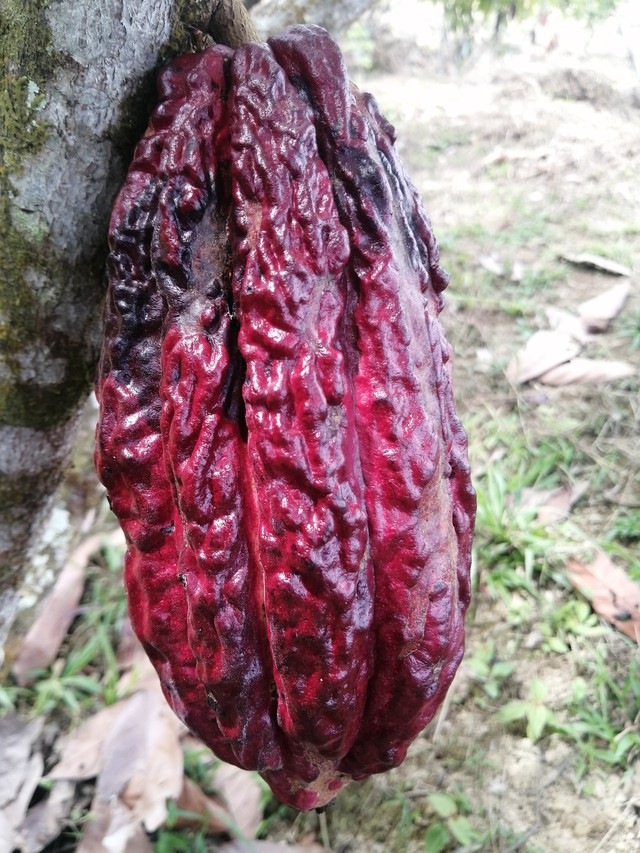phytophthora palmivora: (49, 17, 508, 832)
